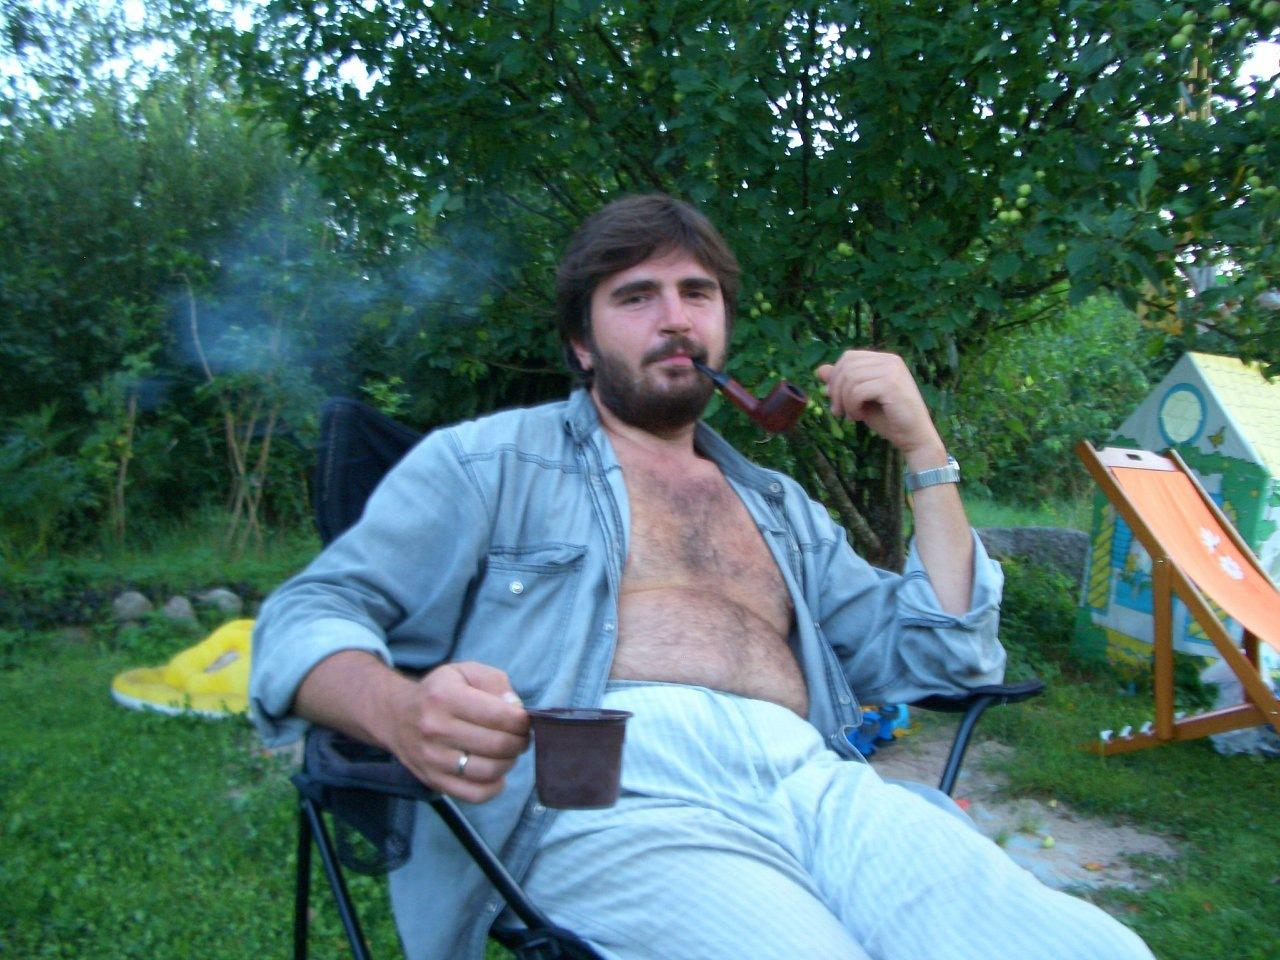trubka: (694, 360, 808, 432)
